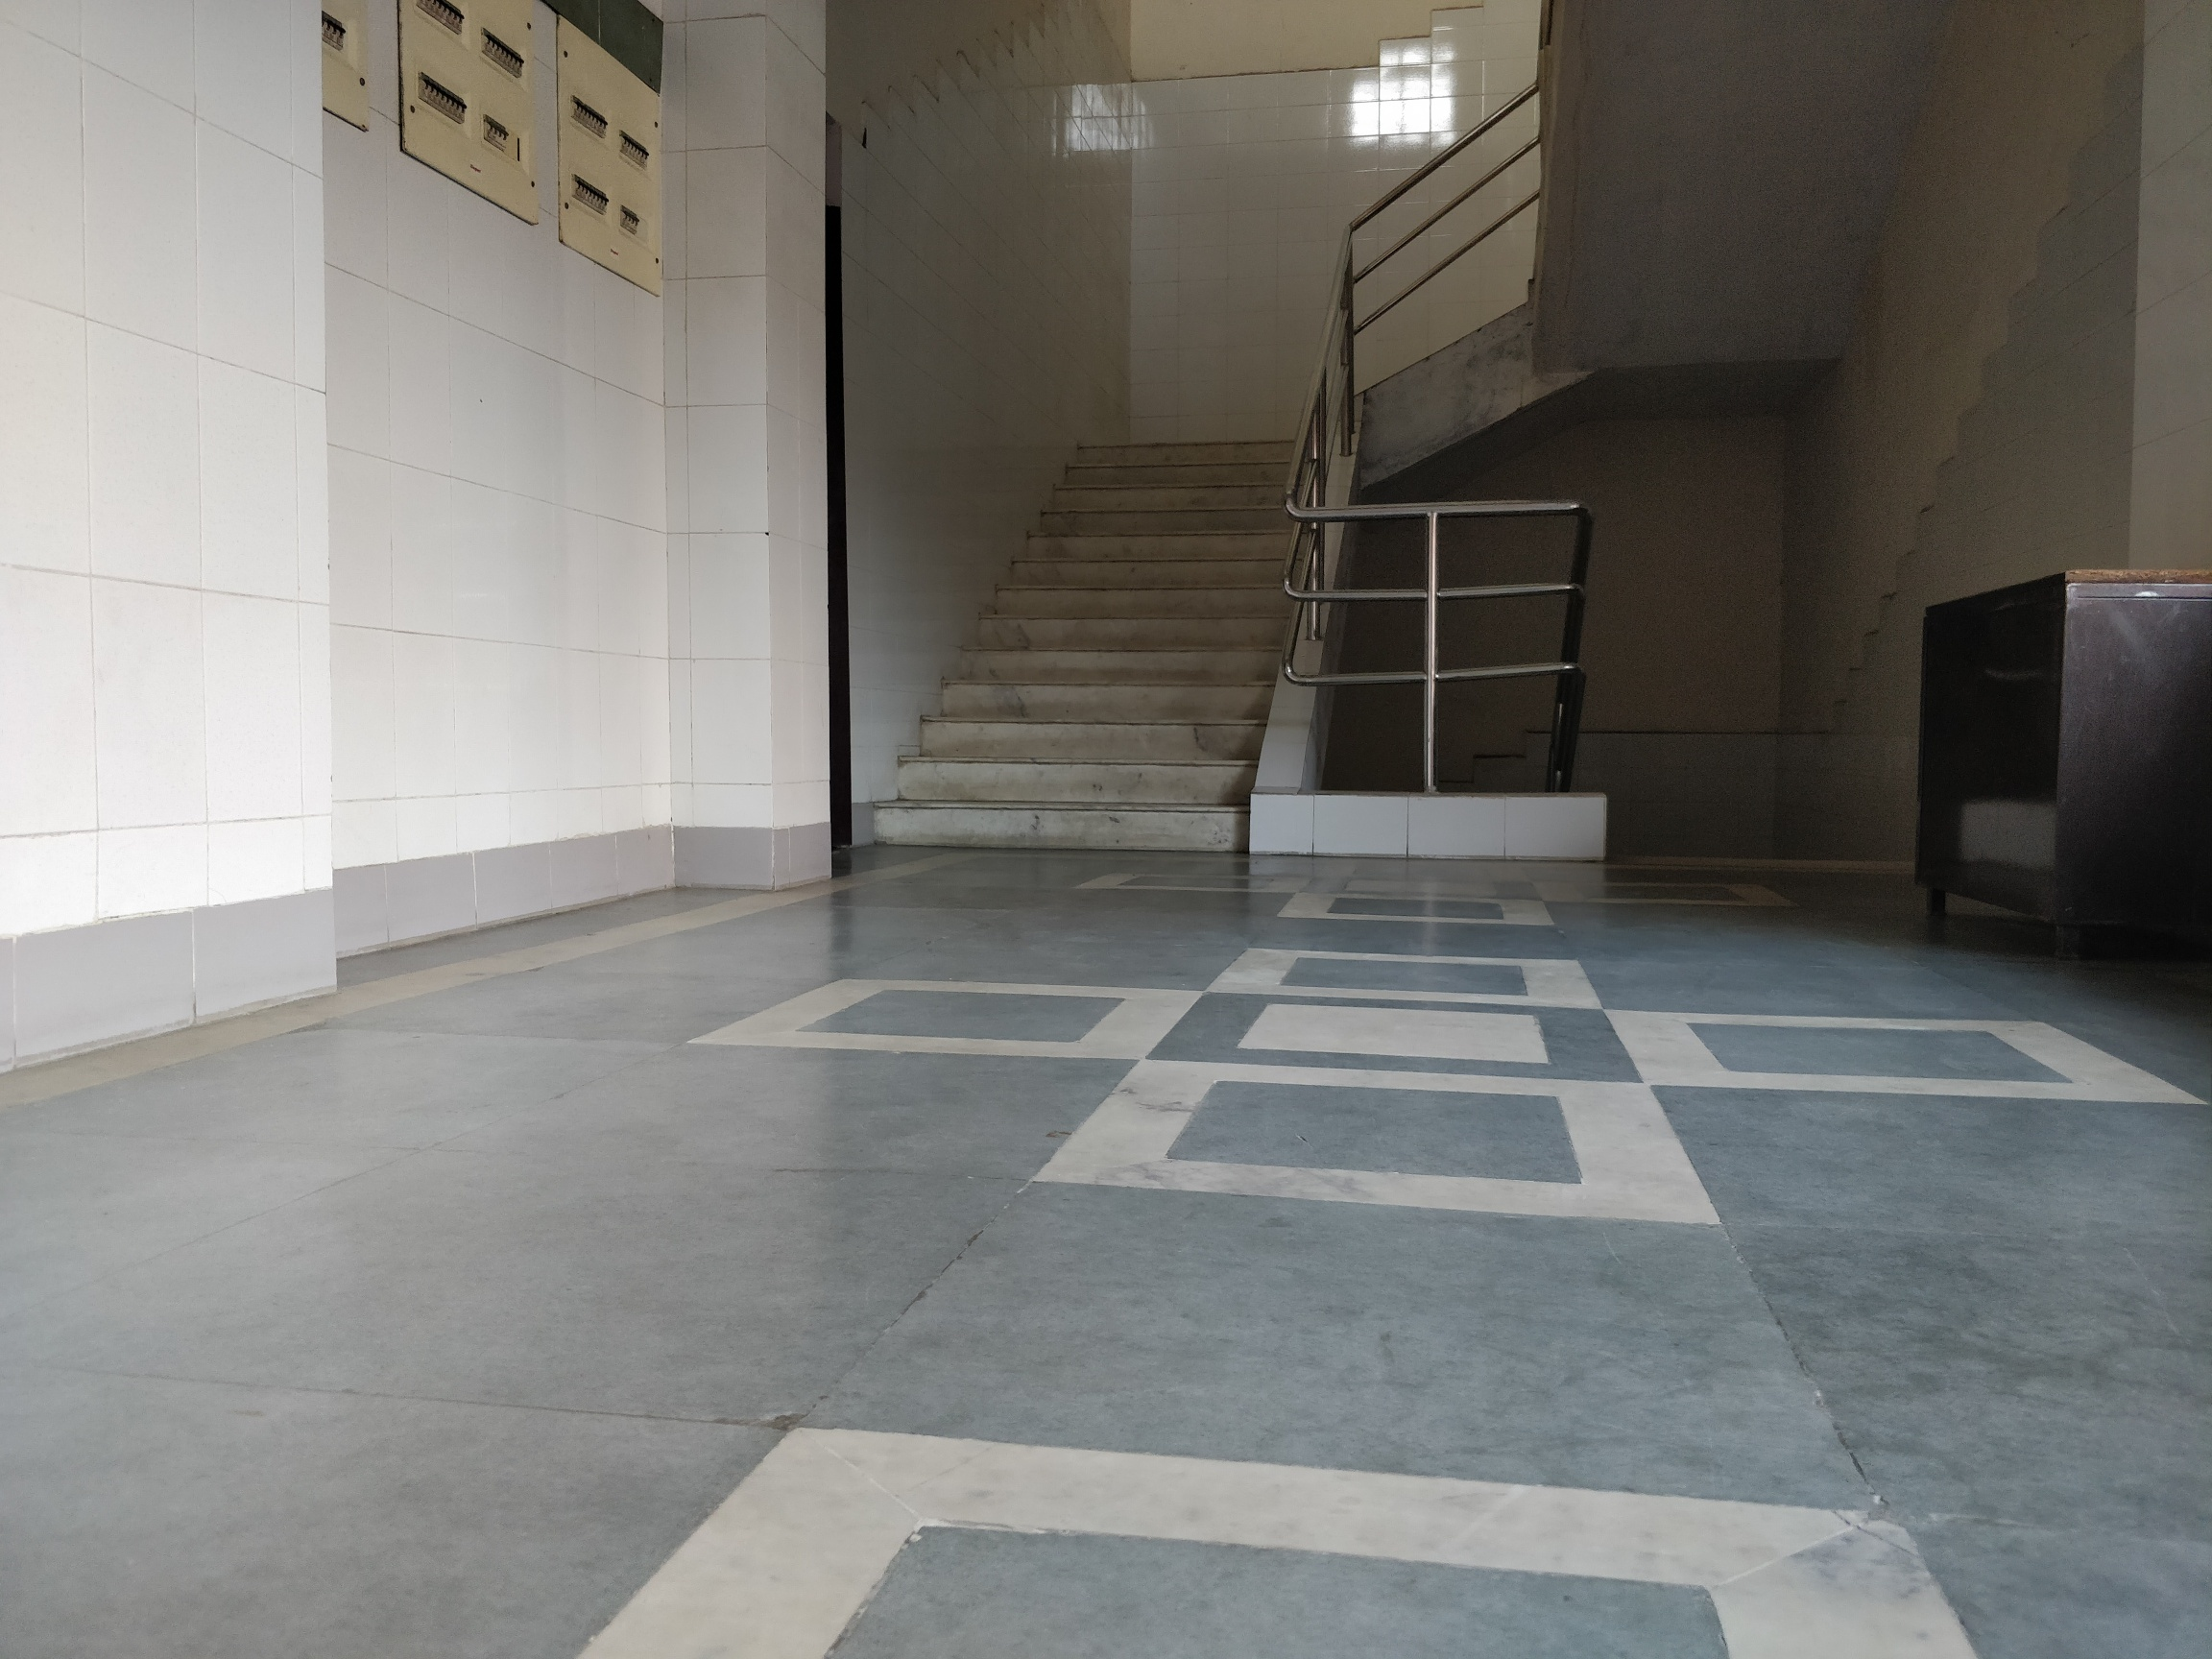stairs_up: (855, 397, 1339, 870)
